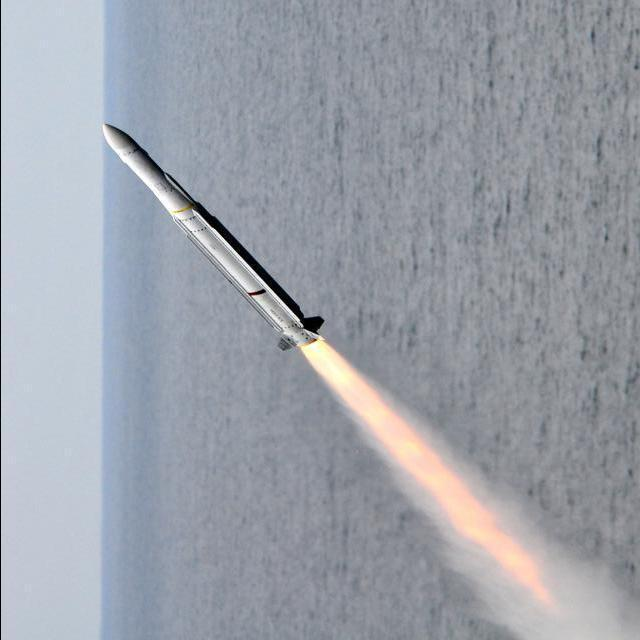missile: (100, 114, 386, 356)
